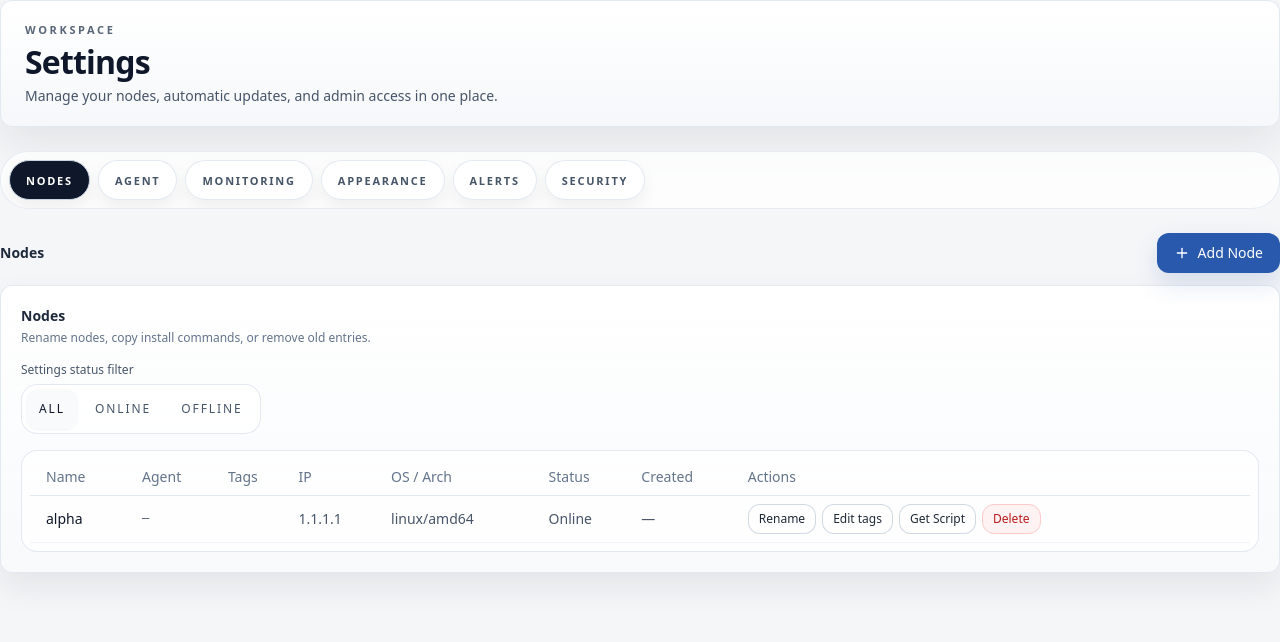
Test: settings section tabs › defers section-specific data requests until the tab is visited
Expected: the button "Add Node" is shown, [1157, 233, 1279, 273]
What coordinates should you click on to do the following:
click the tab "Agent"
I would click on:
 (138, 180)
Its box is [98, 160, 178, 200].
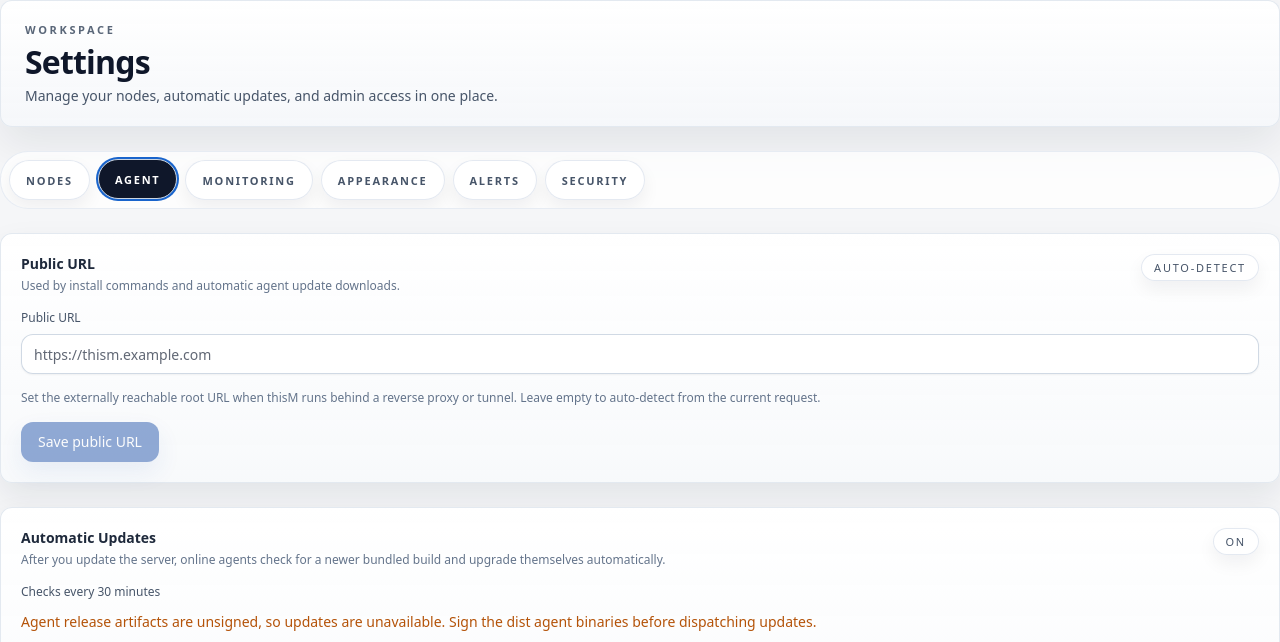
Expected: the heading "Automatic Updates" is shown, [21, 528, 156, 547]
What coordinates should you click on to do the following:
click the tab "Monitoring"
I would click on:
 (249, 180)
Its box is [186, 160, 313, 200].
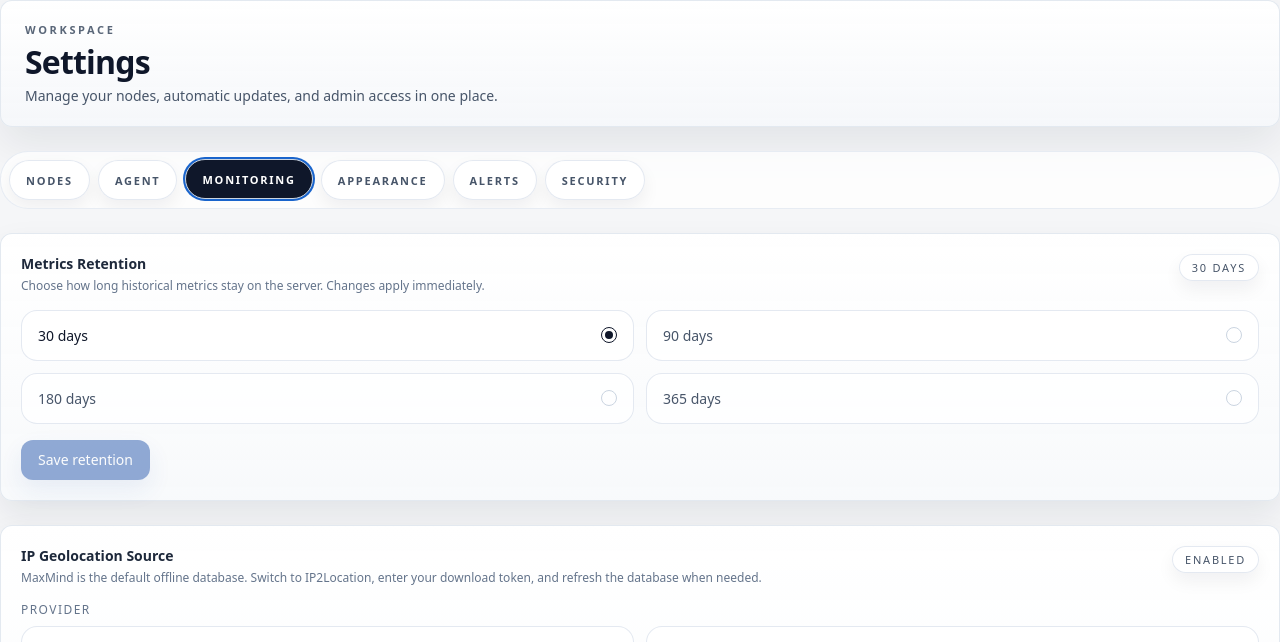
Expected: the heading "Metrics Retention" is shown, [21, 254, 146, 273]
What coordinates should you click on to do the following:
click the tab "Alerts"
I would click on:
 (495, 180)
Its box is [452, 160, 537, 200].
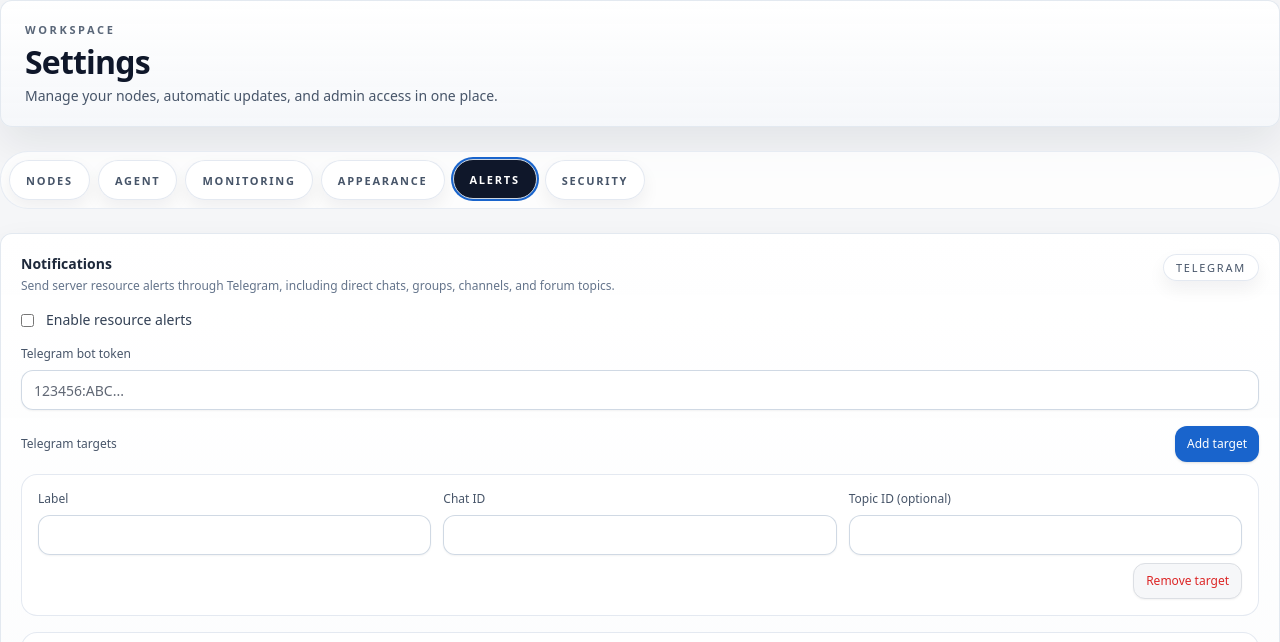
Expected: the heading "Notifications" is shown, [21, 254, 112, 273]
What coordinates should you click on to do the following:
click the tab "Security"
I would click on:
 (595, 180)
Its box is [545, 160, 645, 200].
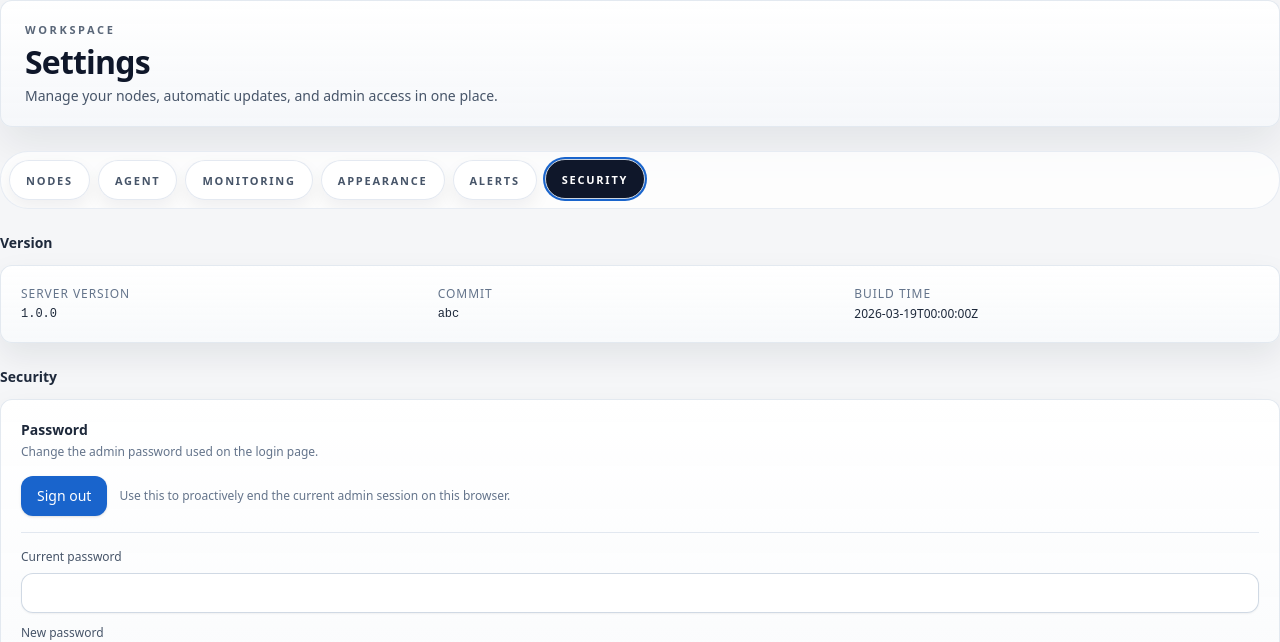
Expected: the heading "Version" is shown, [0, 233, 52, 252]
